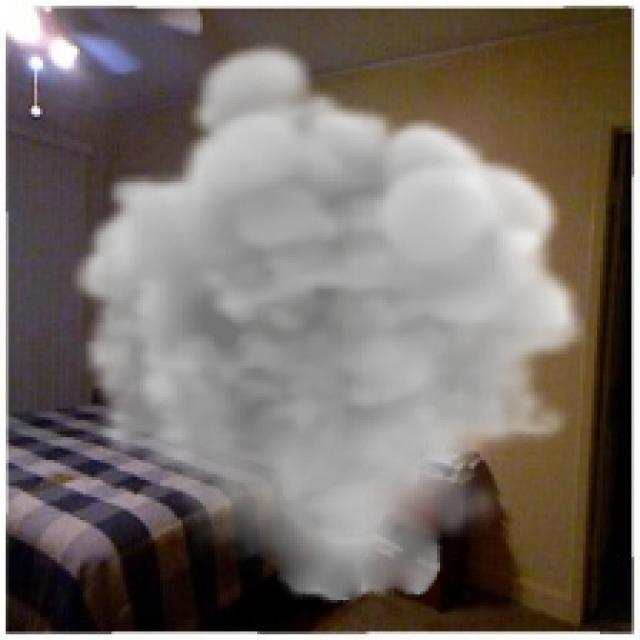Smoke: (71, 37, 588, 606)
